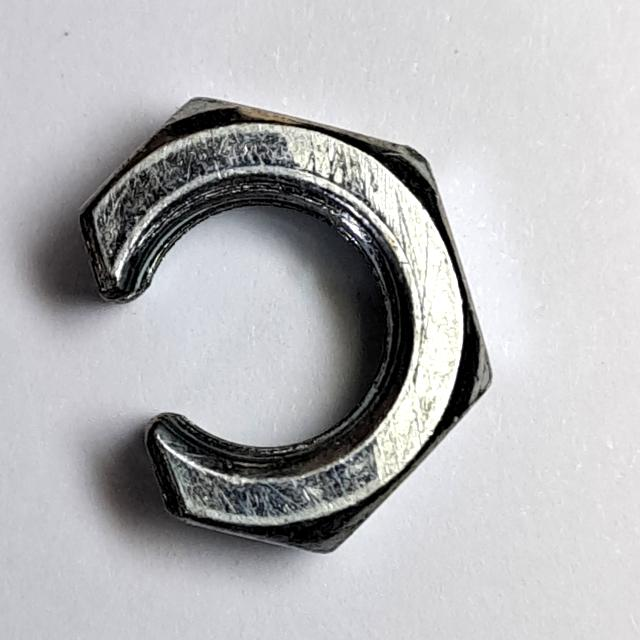Fracture: (70, 85, 506, 572)
